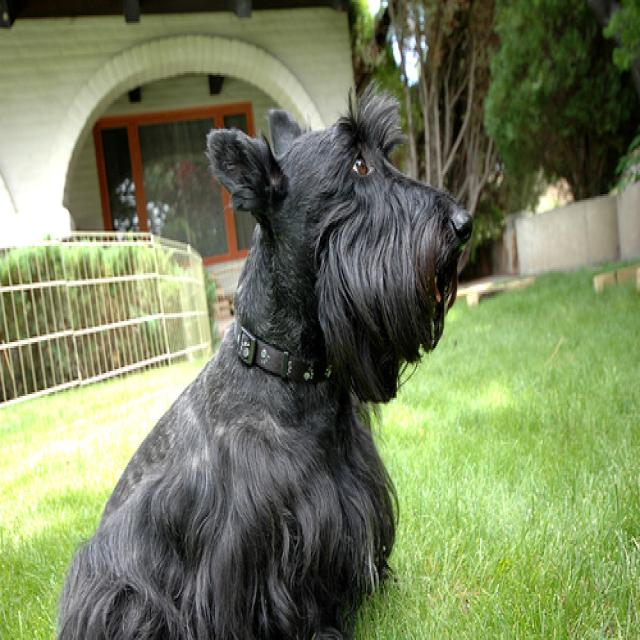dog-scottish_terrier: (49, 86, 479, 636)
